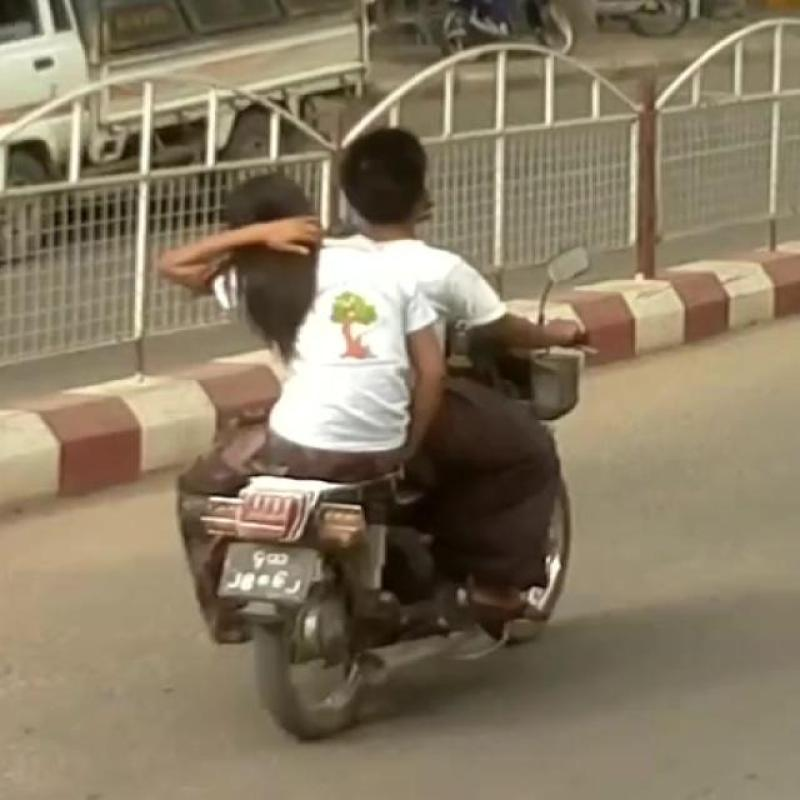nohelmet: (307, 127, 478, 247), (222, 154, 322, 316)
